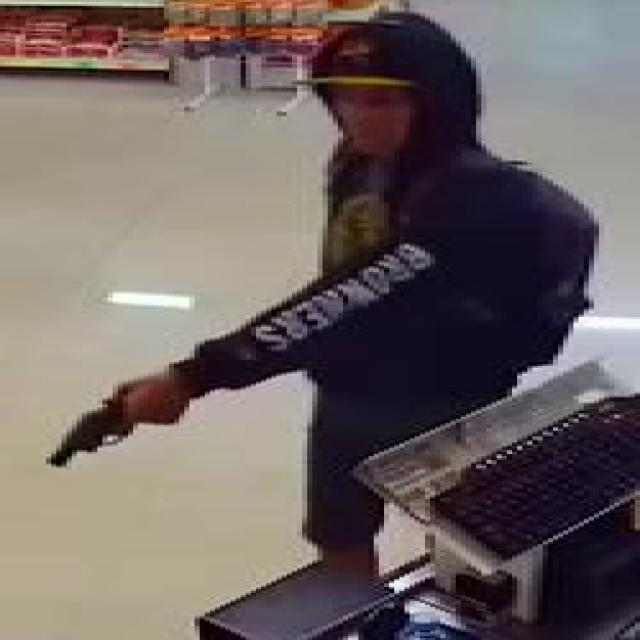gun: (40, 374, 184, 466)
